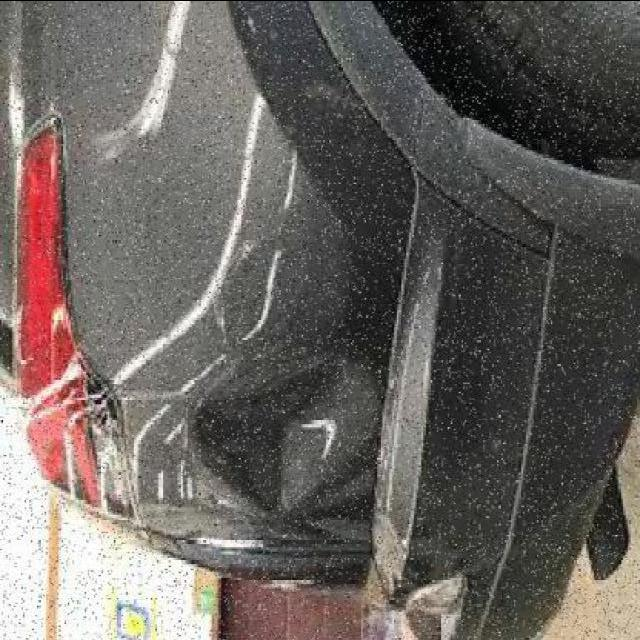quaterpanel-dent: (63, 3, 462, 640)
